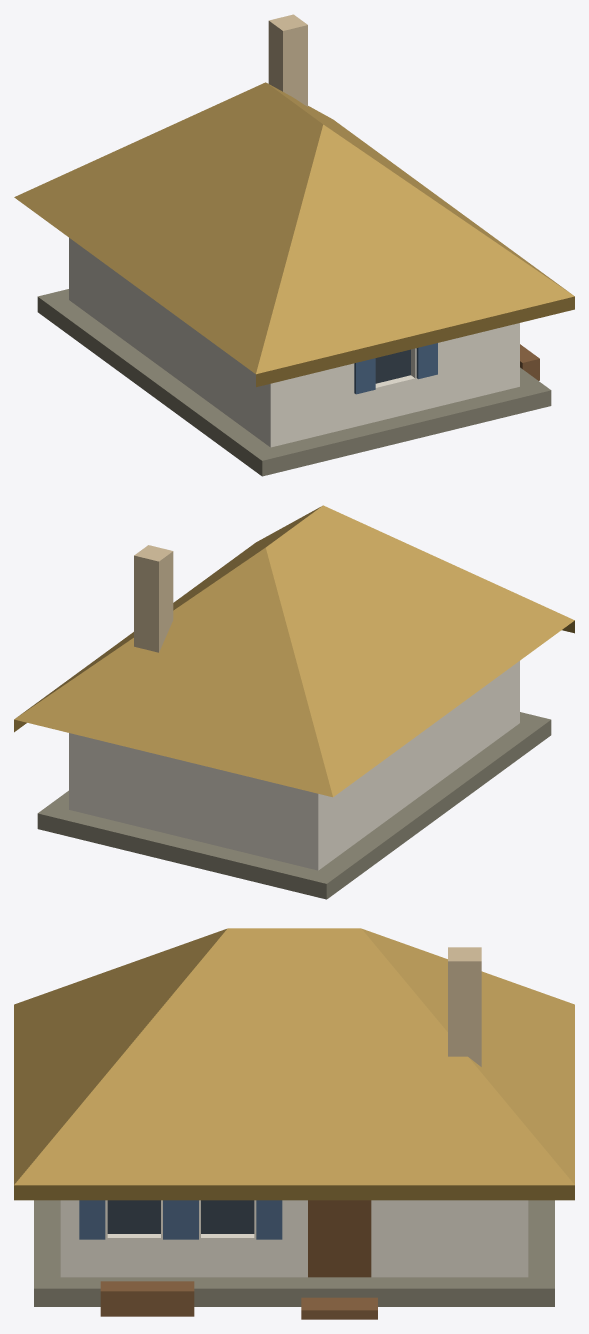
The model's file is domovyk.glb.
The picture shows the model from 3 angles, top to bottom: view 1: azimuth 30°, elevation 25°; view 2: azimuth 150°, elevation 25°; view 3: azimuth 270°, elevation 25°; orthographic projection. The views are drawn at different scales.
Parts seen in each view (by area): view 1: roof_west, roof_south, wall_west, wall_south (×2), pryzba_s, pryzba_w, eave_s, chimney, roof_east, wall_south_sill, shutter (×2), wall_east (+1 smaller); view 2: roof_west, roof_north, wall_north, wall_west, pryzba_n, pryzba_w, chimney, roof_east, wall_east; view 3: roof_east, wall_east (×4), roof_south, roof_north, pryzba_e, eave_e, door_leaf, wall_east_sill (×2), shutter (×4), chimney, pane (×2), bench_out (+4 smaller).
Boxes of the visible parts, x1=… form: roof_west: x1=14, y1=82, x2=323, y2=373; roof_south: x1=256, y1=124, x2=574, y2=374; wall_west: x1=69, y1=239, x2=284, y2=447; wall_south (×2): x1=270, y1=323, x2=519, y2=447; pryzba_s: x1=250, y1=382, x2=551, y2=476; pryzba_w: x1=49, y1=300, x2=269, y2=467; eave_s: x1=256, y1=296, x2=574, y2=387; chimney: x1=268, y1=14, x2=307, y2=106; roof_east: x1=267, y1=83, x2=570, y2=293; wall_south_sill: x1=375, y1=375, x2=415, y2=421; shutter (×2): x1=354, y1=343, x2=437, y2=394; wall_east: x1=502, y1=323, x2=519, y2=390; roof_west: x1=265, y1=505, x2=574, y2=796; roof_north: x1=14, y1=548, x2=332, y2=797; wall_north: x1=69, y1=733, x2=328, y2=870; wall_west: x1=301, y1=661, x2=519, y2=869; pryzba_n: x1=37, y1=805, x2=338, y2=899; pryzba_w: x1=319, y1=723, x2=539, y2=890; chimney: x1=134, y1=545, x2=173, y2=652; roof_east: x1=18, y1=506, x2=321, y2=716; wall_east: x1=69, y1=733, x2=86, y2=810; roof_east: x1=14, y1=928, x2=574, y2=1185; wall_east (×4): x1=60, y1=1200, x2=528, y2=1277; roof_south: x1=14, y1=929, x2=226, y2=1184; roof_north: x1=362, y1=929, x2=574, y2=1184; pryzba_e: x1=60, y1=1277, x2=528, y2=1306; eave_e: x1=14, y1=1185, x2=574, y2=1200; door_leaf: x1=308, y1=1200, x2=371, y2=1277; wall_east_sill (×2): x1=107, y1=1234, x2=254, y2=1277; shutter (×4): x1=79, y1=1200, x2=282, y2=1239; chimney: x1=448, y1=947, x2=481, y2=1066; pane (×2): x1=107, y1=1200, x2=254, y2=1233; bench_out: x1=100, y1=1281, x2=194, y2=1316.
Bounding box in the file's own units: 6.55 × 5.1 × 8.4.
